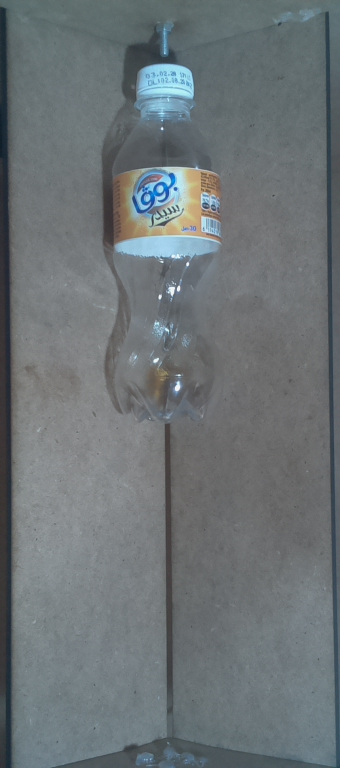Bouteille_0.3L: (95, 54, 237, 428)
